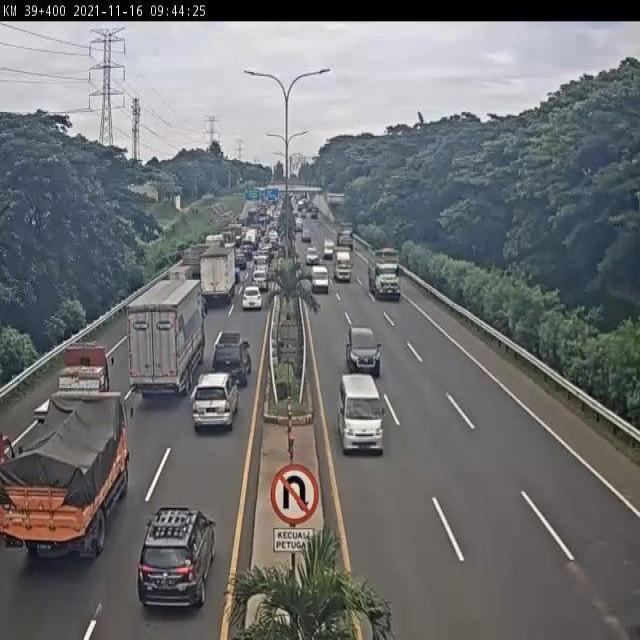car: (135, 497, 224, 615), (334, 373, 391, 463), (190, 364, 250, 437), (336, 315, 392, 384), (213, 327, 260, 389), (239, 281, 265, 319), (309, 264, 332, 300), (303, 244, 325, 268), (251, 270, 271, 294), (322, 237, 336, 259), (300, 224, 315, 244)
truck-l-: (118, 269, 210, 402), (365, 244, 408, 303), (333, 214, 359, 258)
truck-m-: (0, 376, 141, 573), (43, 342, 123, 410), (197, 233, 241, 308), (332, 246, 356, 286)
